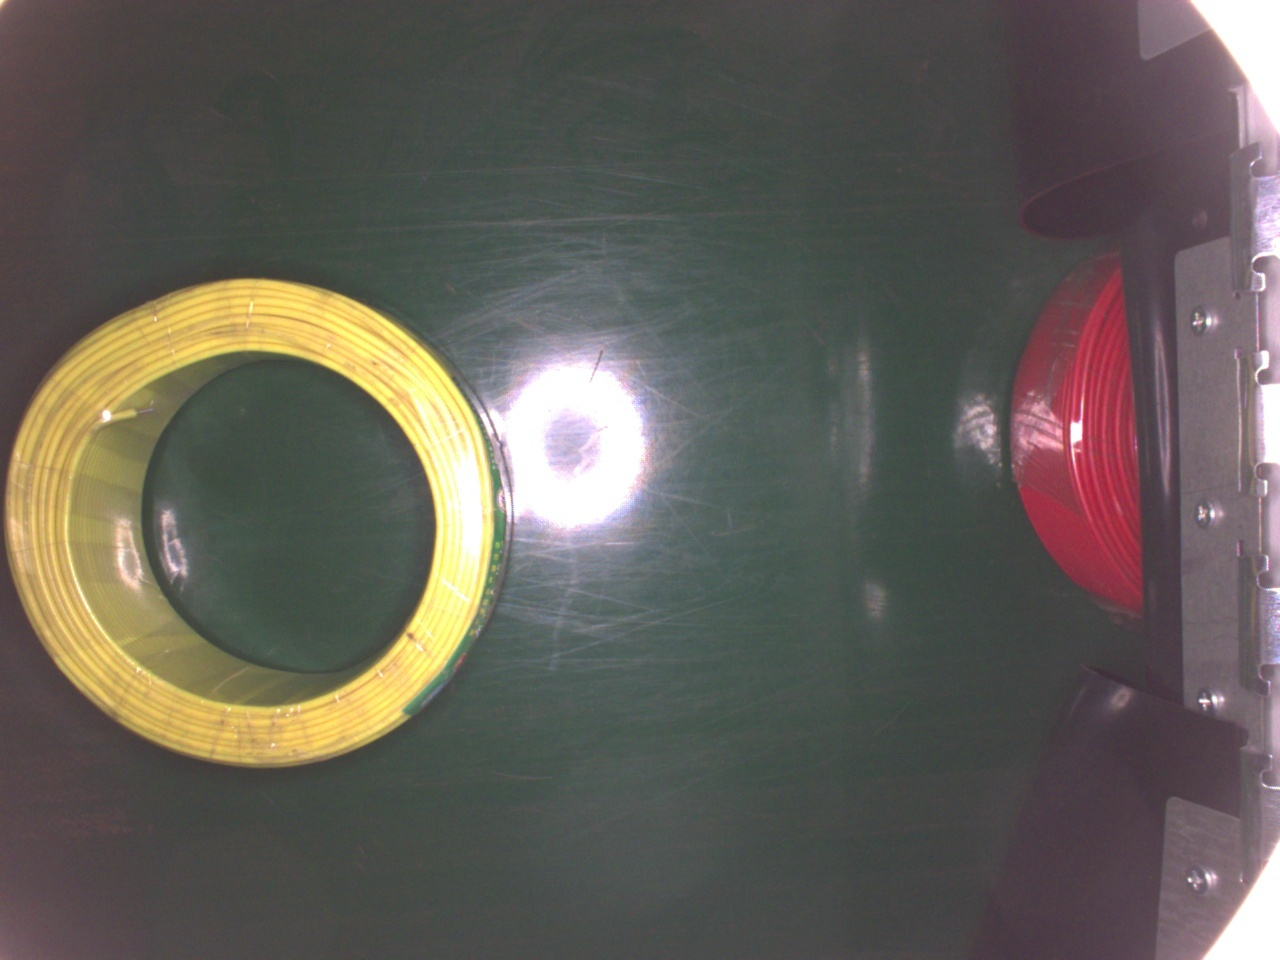red: (1009, 240, 1149, 619)
yellow: (4, 273, 513, 775)
